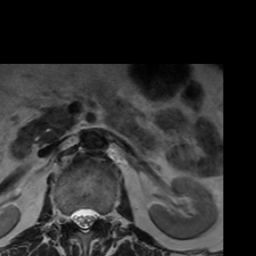CCS_normal: (80, 198, 89, 240)
LFS_stenosis: (98, 203, 107, 229)
LLS_normal: (89, 199, 98, 233)
RFS_normal: (61, 203, 70, 230)
RLS_normal: (70, 201, 80, 232)
